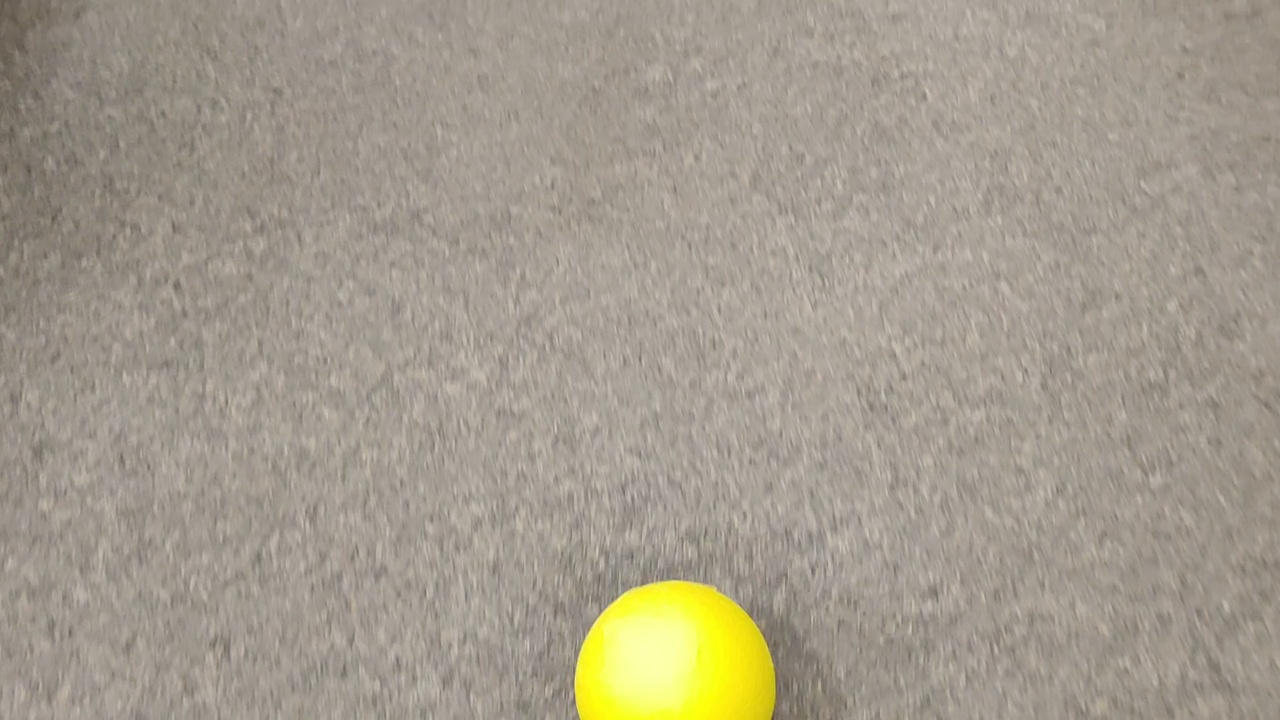Ball: (573, 581, 778, 720)
